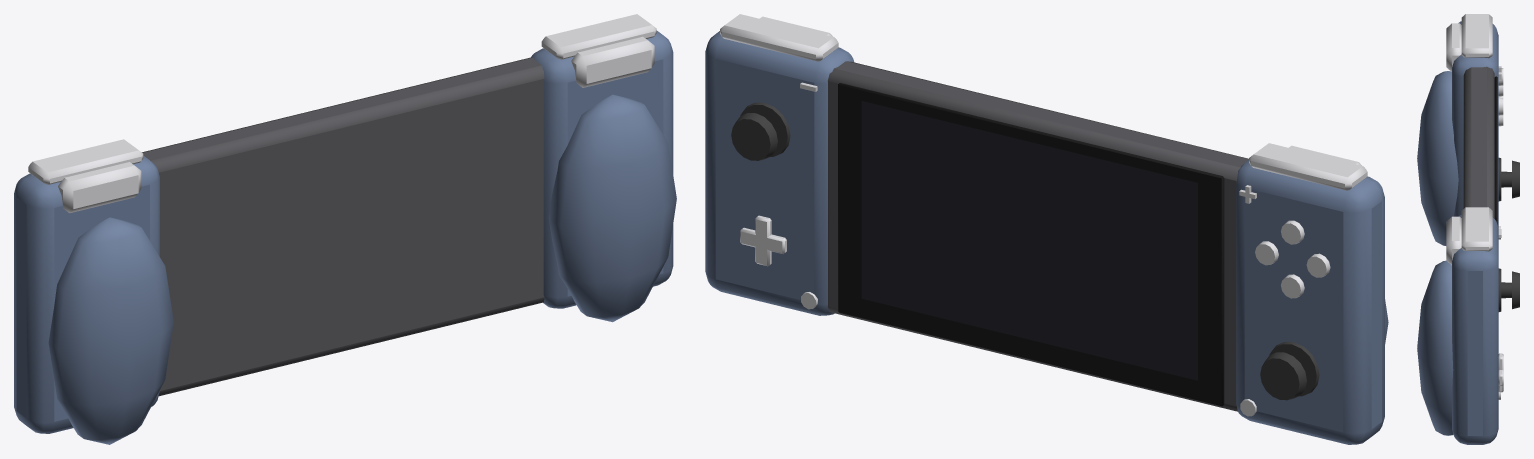
Rendered from HandheldConsole.fbx.
3 views of the same model, side by side, from view 1: azimuth 30°, elevation 25°; view 2: azimuth 150°, elevation 25°; view 3: azimuth 270°, elevation 25° (orthographic). The views are drawn at different scales.
Parts seen in each view (by area): view 1: HandheldConsole_Body; view 2: HandheldConsole_Body, Screen, LeftStick, RightStick; view 3: HandheldConsole_Body, RightStick, LeftStick.
Part boxes in pixels (<box>): HandheldConsole_Body: <box>14,14,676,444</box>; HandheldConsole_Body: <box>705,14,1388,444</box>; Screen: <box>861,101,1197,380</box>; LeftStick: <box>731,113,777,160</box>; RightStick: <box>1260,352,1306,400</box>; HandheldConsole_Body: <box>1417,14,1503,444</box>; RightStick: <box>1501,160,1519,198</box>; LeftStick: <box>1501,271,1519,309</box>.
Bounding box in the file's own units: 0.296 × 0.1215 × 0.053.
